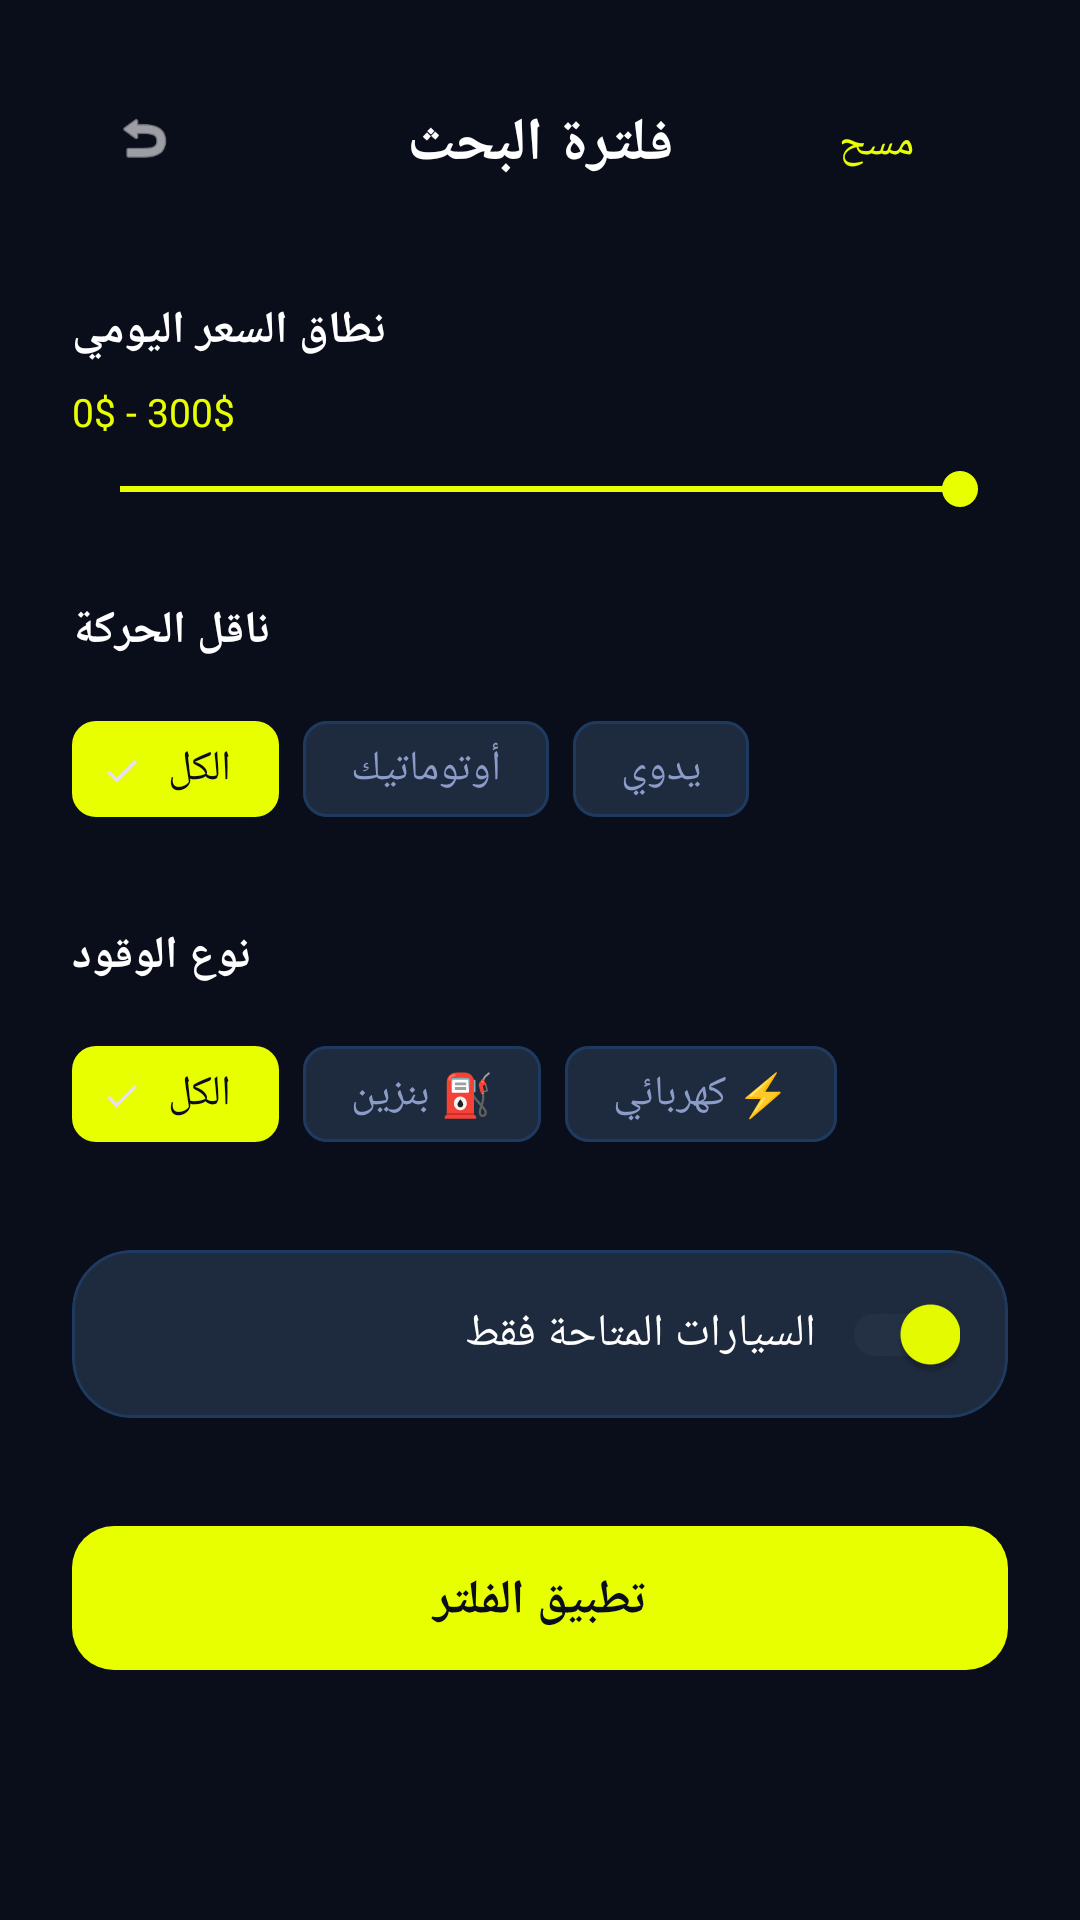

Named icons in this screenshot (1080 × 1920) and their bounding boxes, region(x1, y1, x2, y2):
revert: region(123, 119, 167, 158)
